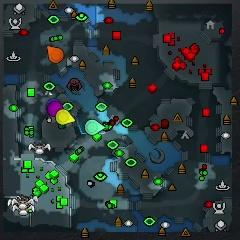p1: (47, 98, 61, 106)
p2: (85, 119, 104, 135)
p3: (47, 102, 63, 116)
p4: (56, 110, 75, 124)
p5: (46, 45, 64, 63)
